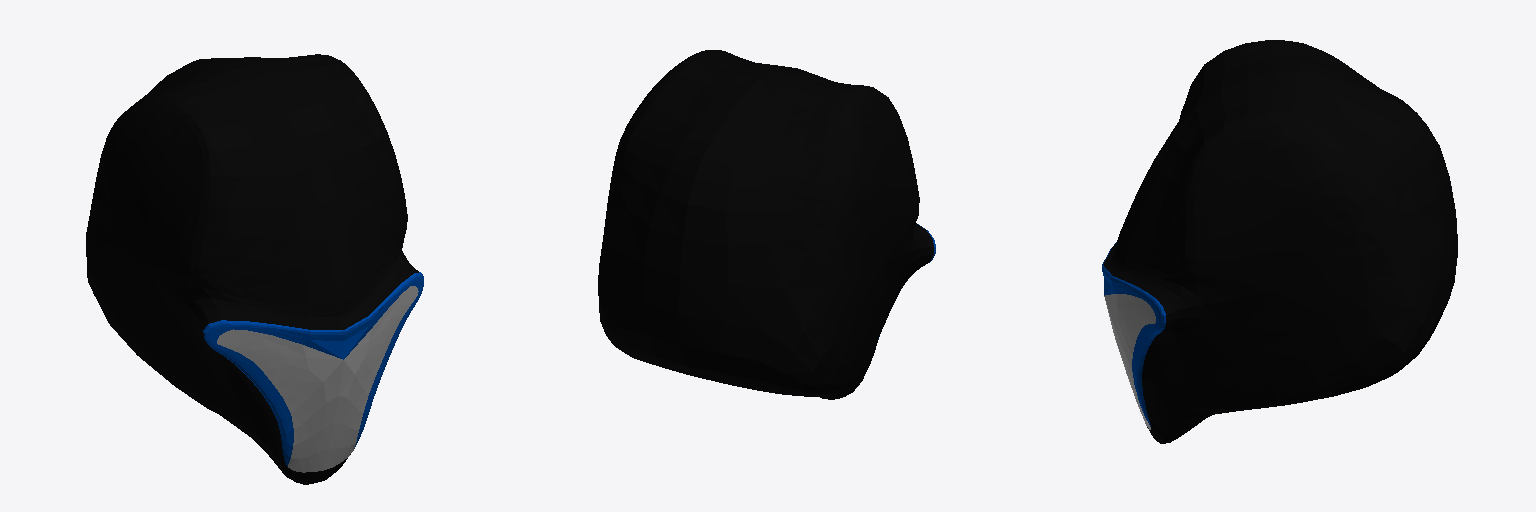
Rendered from Cabeza.obj.
The picture shows the model from 3 angles: view 1: azimuth 30°, elevation 25°; view 2: azimuth 150°, elevation 25°; view 3: azimuth 270°, elevation 25°; orthographic projection.
Visible parts, largest first — view 1: Cyborg.Mesh_Cube; view 2: Cyborg.Mesh_Cube; view 3: Cyborg.Mesh_Cube.
Part boxes in pixels (x1,y1,x2,y2): Cyborg.Mesh_Cube: (86,54,423,484); Cyborg.Mesh_Cube: (598,50,935,399); Cyborg.Mesh_Cube: (1102,40,1457,443).
Size of the model in its own units: 1.07 by 1.59 by 1.4.